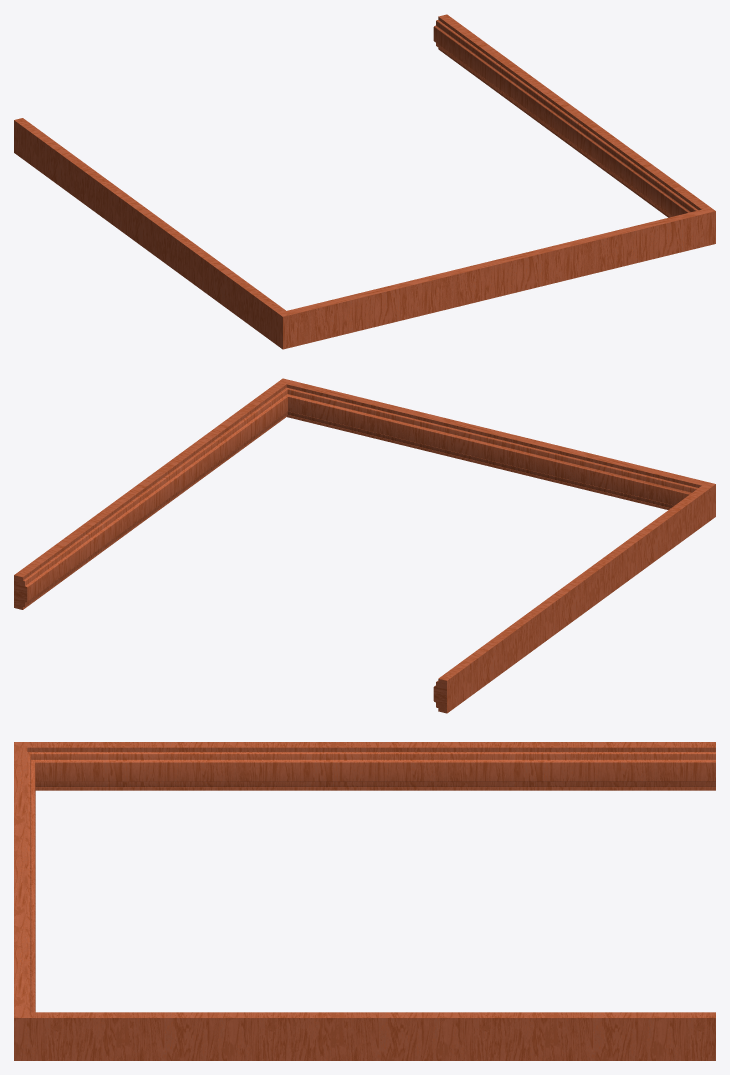
The model's file is MeshDoorwayDouble_7_4.obj.
3 views of the same model, one above another, from view 1: azimuth 30°, elevation 25°; view 2: azimuth 150°, elevation 25°; view 3: azimuth 270°, elevation 25° (orthographic). The views are drawn at different scales.
Parts seen in each view (by area): view 1: DoorwayDouble_7; view 2: DoorwayDouble_7; view 3: DoorwayDouble_7.
Part boxes in pixels (x1,y1,x2,y2): DoorwayDouble_7: [14, 14, 715, 349]; DoorwayDouble_7: [14, 378, 715, 713]; DoorwayDouble_7: [14, 742, 715, 1060].
Size of the model in its own units: 1.95 by 0.1408 by 2.1.
Materials: 1 (1 with a texture image).
